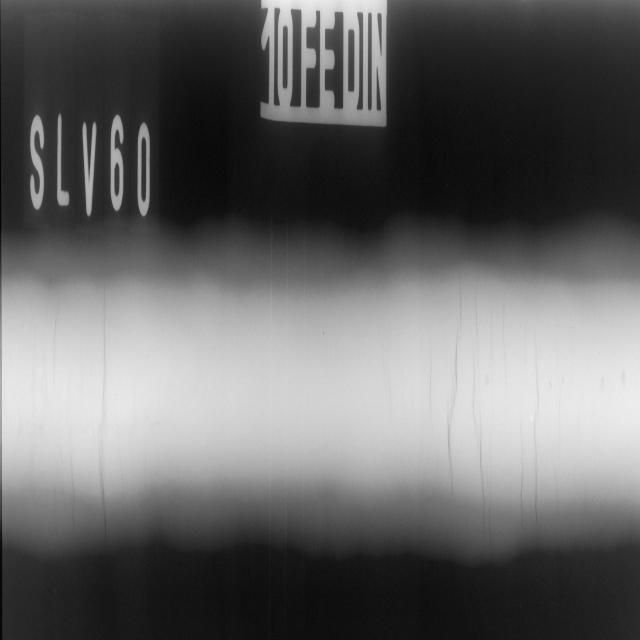TR: (416, 269, 572, 561), (18, 242, 130, 553)
